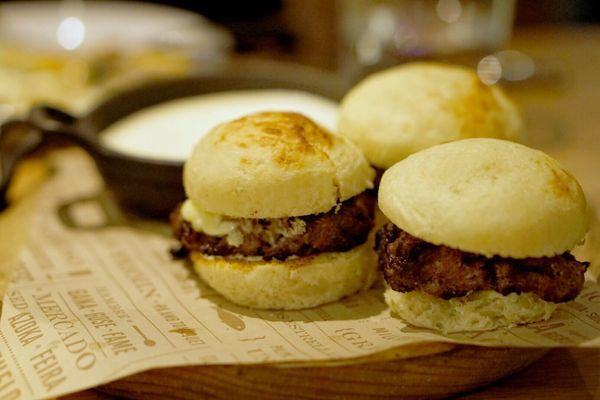soup: (372, 136, 593, 331), (170, 110, 379, 311)
